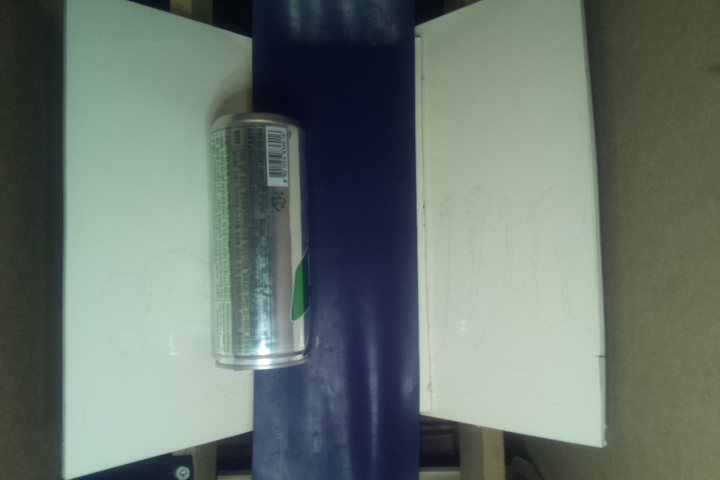can: (205, 113, 317, 372)
